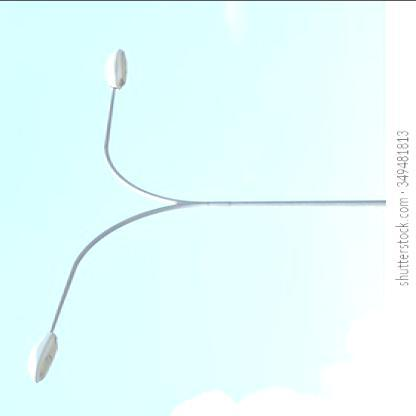off: (13, 293, 79, 384), (101, 39, 156, 126)
